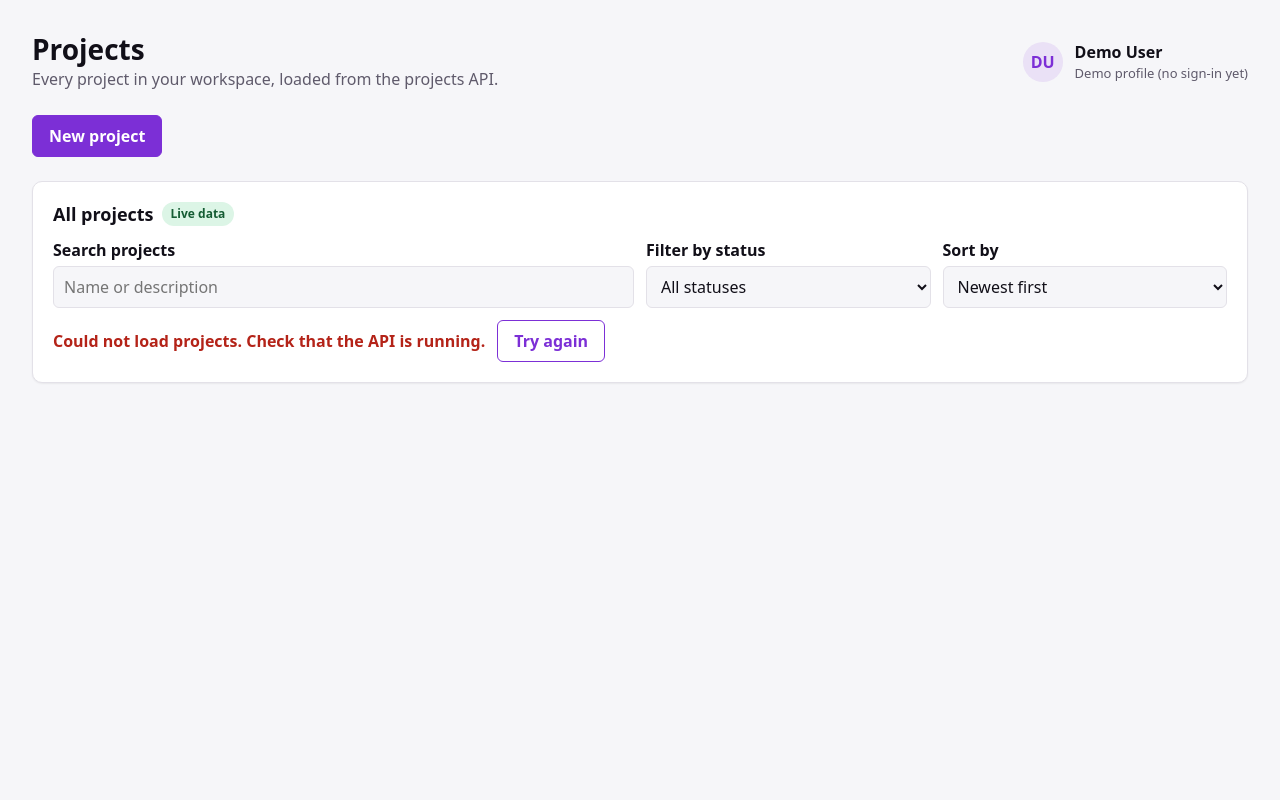
Scenario: Projects page: loading, empty, and error states › shows a friendly error without internal details, and can retry
The image size is (1280, 800).
Check: the message shows "Could not load projects", box [53, 330, 485, 352]
Click the button "Try again".
click(551, 341)  # box [497, 320, 605, 362]
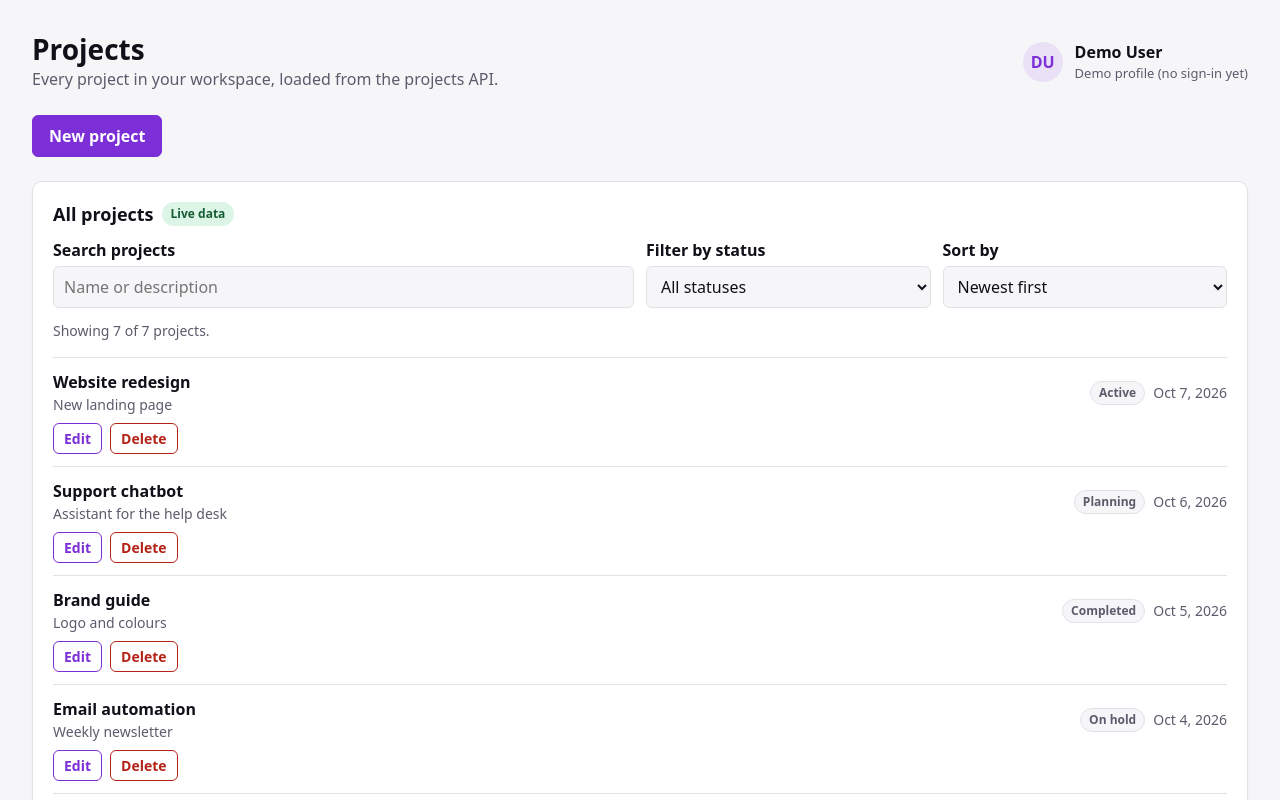
Check: the text "Website redesign" is shown, box [53, 371, 191, 393]
